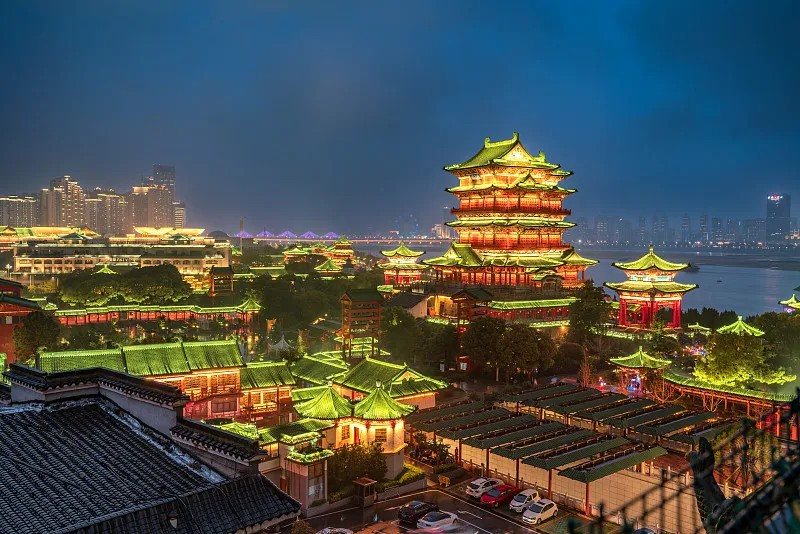Teng: (421, 132, 601, 290)
